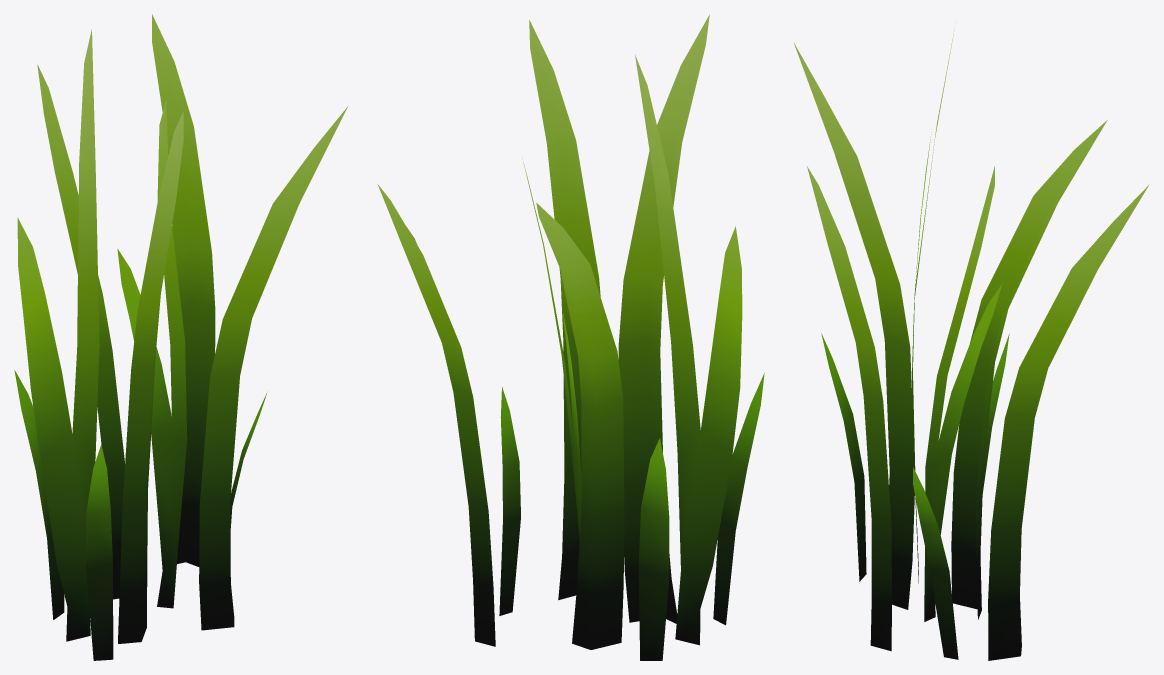
Rendered from Grass_Common_Short.glb.
3 views of the same model, side by side, from view 1: azimuth 30°, elevation 25°; view 2: azimuth 150°, elevation 25°; view 3: azimuth 270°, elevation 25° (orthographic). The views are drawn at different scales.
Parts seen in each view (by area): view 1: Grass_Common_Short; view 2: Grass_Common_Short; view 3: Grass_Common_Short.
Part boxes in pixels (x1,y1,x2,y2): Grass_Common_Short: (14, 14, 347, 660); Grass_Common_Short: (377, 14, 764, 660); Grass_Common_Short: (793, 27, 1149, 660).
Bounding box in the file's own units: 0.6389 × 1.33 × 0.7373.
Materials: 1 (1 with a texture image).
